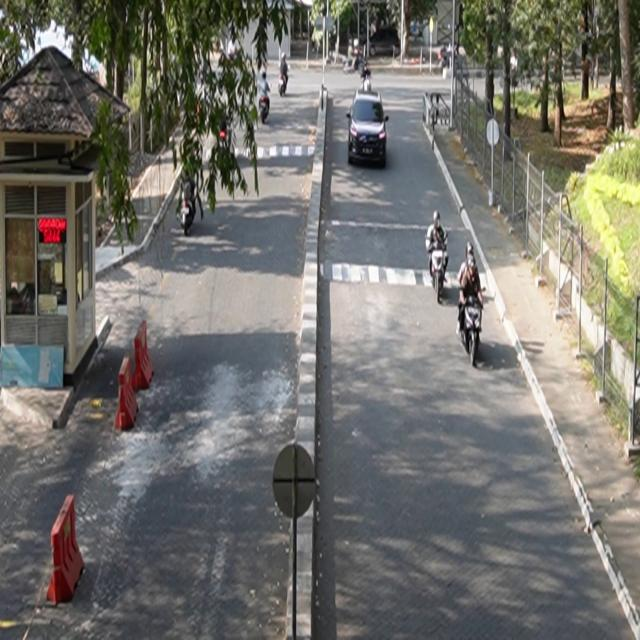car: (347, 89, 390, 169)
